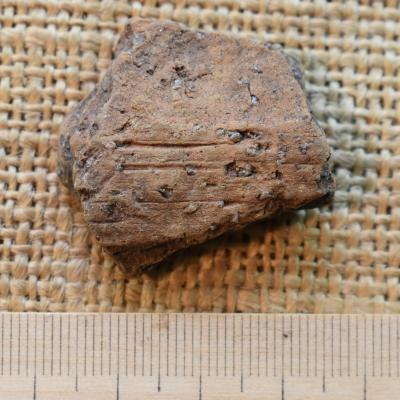archeology: (58, 17, 335, 279)
